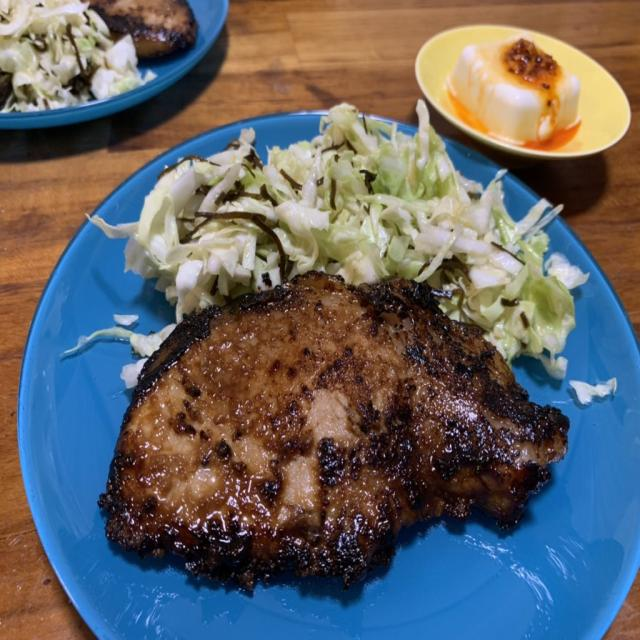overcooked pork: (95, 272, 576, 590)
